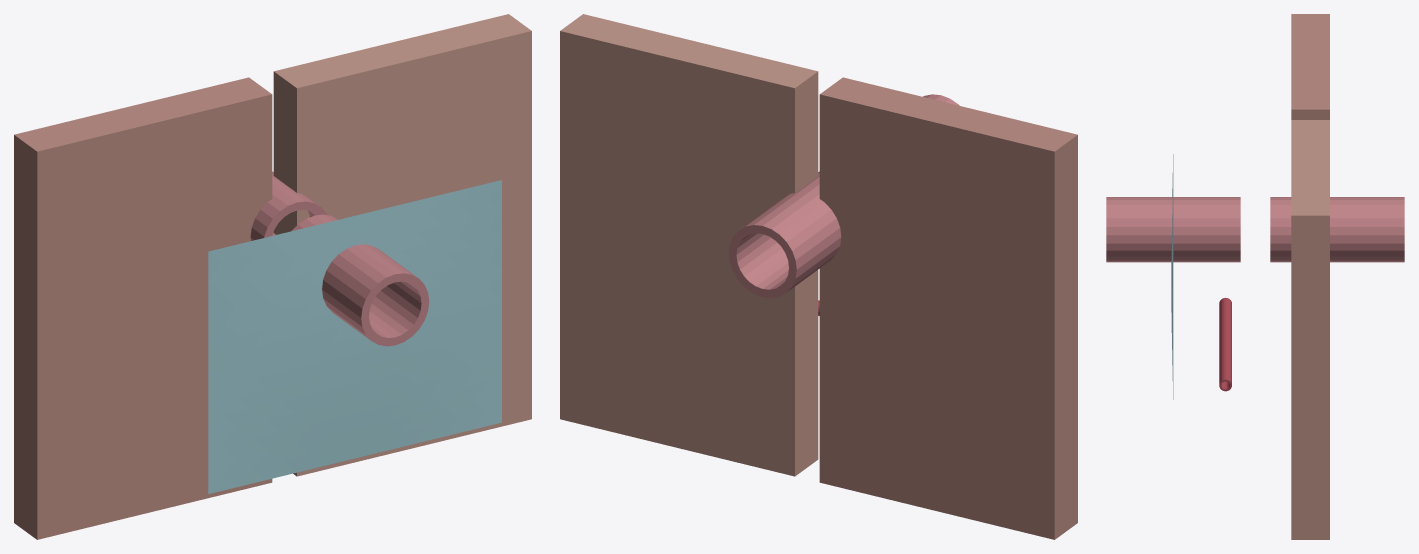
Rendered from dranmar_deformable_rescue_suite.glb.
3 renders of one model, left to right at view 1: azimuth 30°, elevation 25°; view 2: azimuth 150°, elevation 25°; view 3: azimuth 270°, elevation 25°, orthographic. The views are drawn at different scales.
Visible parts, largest first — view 1: WallLeft, Film, WallRight, BowelProximal, BowelDistal; view 2: WallLeft, WallRight, BowelDistal; view 3: WallRight, BowelProximal, BowelDistal, WallLeft, Vessel, Film.
Boxes of the visible parts, box(x1,y1,x2,y2) form: WallLeft: box(14, 77, 272, 539); Film: box(208, 180, 501, 493); WallRight: box(273, 14, 531, 476); BowelProximal: box(291, 214, 429, 346); BowelDistal: box(250, 171, 327, 240); WallLeft: box(819, 77, 1077, 539); WallRight: box(560, 14, 818, 476); BowelDistal: box(728, 171, 841, 297); WallRight: box(1291, 120, 1329, 539); BowelProximal: box(1106, 197, 1240, 262); BowelDistal: box(1270, 197, 1404, 262); WallLeft: box(1291, 14, 1329, 119); Vessel: box(1219, 297, 1231, 391); Film: box(1171, 154, 1173, 399).
Bounding box in the file's own units: 0.32 × 0.24 × 0.2.
